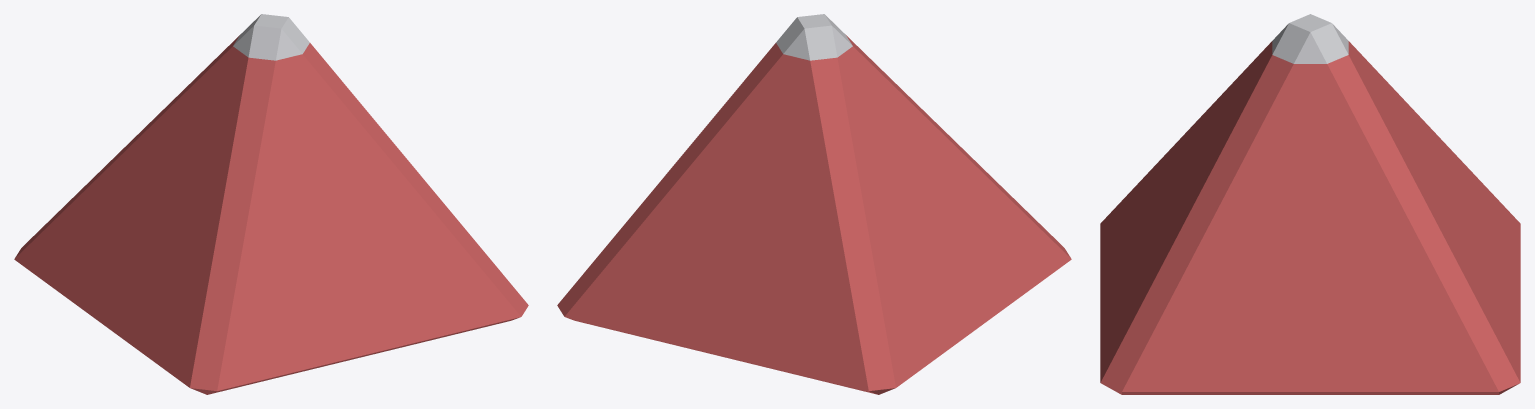
Rendered from Roof_Point_Red_01.obj.
3 views of the same model, side by side, from view 1: azimuth 30°, elevation 25°; view 2: azimuth 150°, elevation 25°; view 3: azimuth 270°, elevation 25° (orthographic). The views are drawn at different scales.
Visible parts, largest first — view 1: Mesh1_Roof_Point_Red_Model; view 2: Mesh1_Roof_Point_Red_Model; view 3: Mesh1_Roof_Point_Red_Model.
Part boxes in pixels (left/top/right/bottom): Mesh1_Roof_Point_Red_Model: left=14, top=14, right=528, bottom=394; Mesh1_Roof_Point_Red_Model: left=557, top=14, right=1071, bottom=394; Mesh1_Roof_Point_Red_Model: left=1100, top=14, right=1520, bottom=394.
Size of the model in its own units: 3.34 by 2.56 by 3.34.
